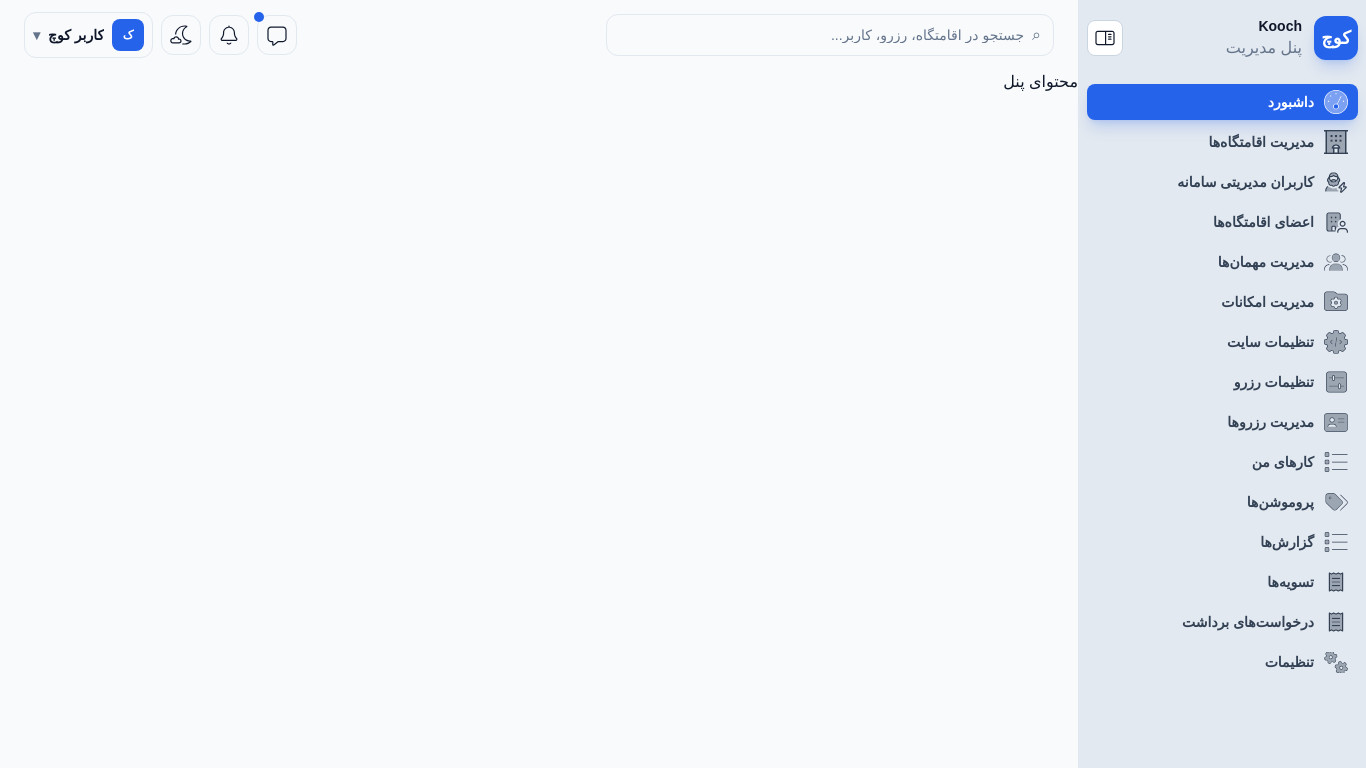
Test case: Dashboard notification inbox › does not optimistically clear a failed mark-read request
Click the button named "اعلان‌ها": [229, 35] box [209,15,249,55]
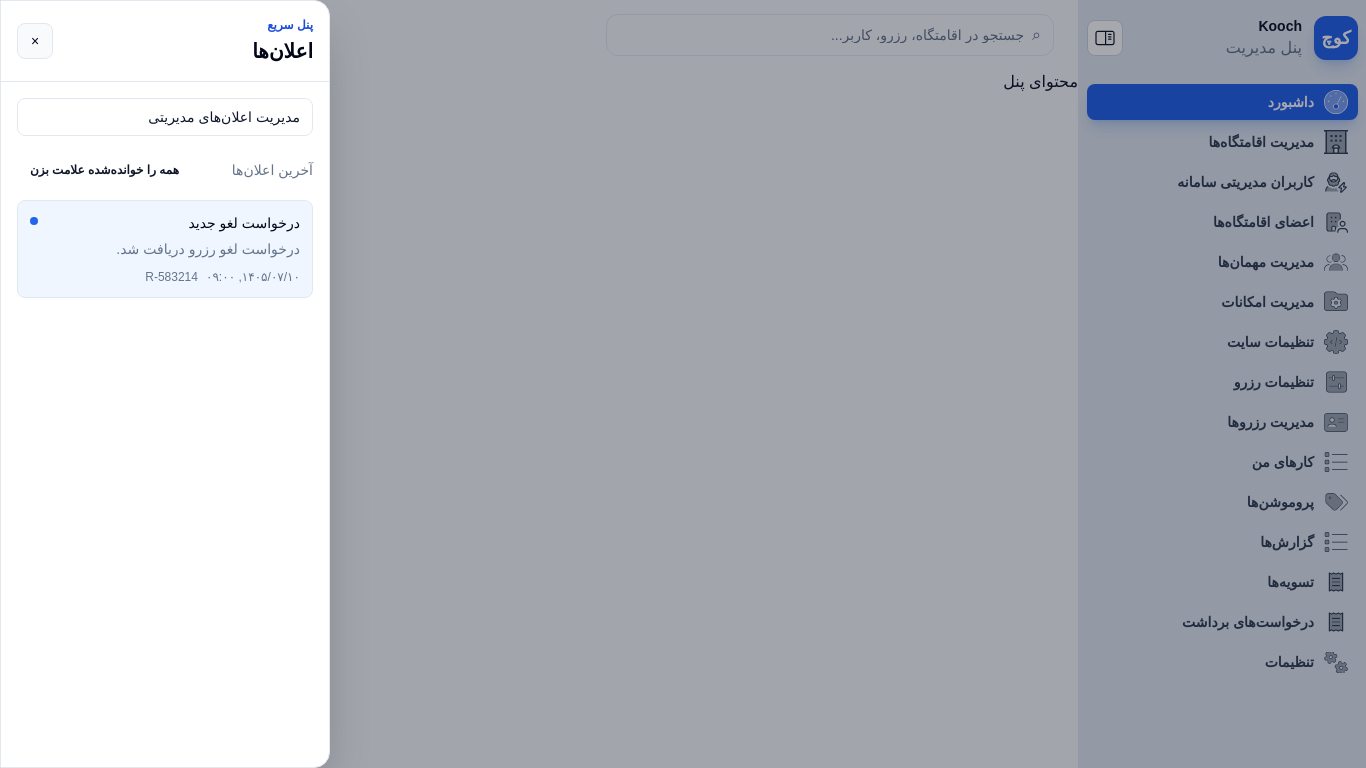
Click the button with aria-label "علامت‌گذاری اعلان درخواست لغو جدید": [165, 249] box [17,200,313,298]
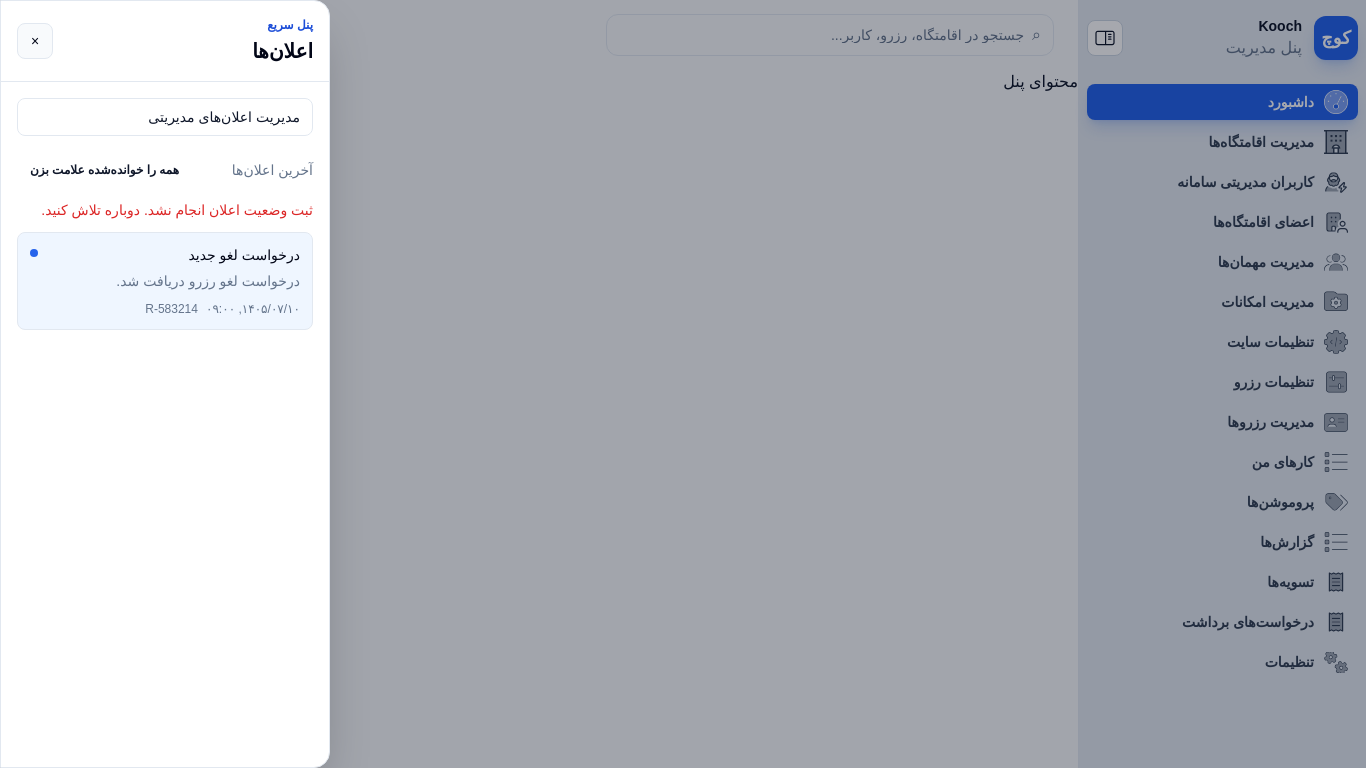
Expected: the button with aria-label "علامت‌گذاری اعلان درخواست لغو جدید" is shown, [17,232,313,330]
Expected: the text "ثبت وضعیت اعلان انجام نشد. دوباره تلاش کنید." is shown, [17,200,313,220]
